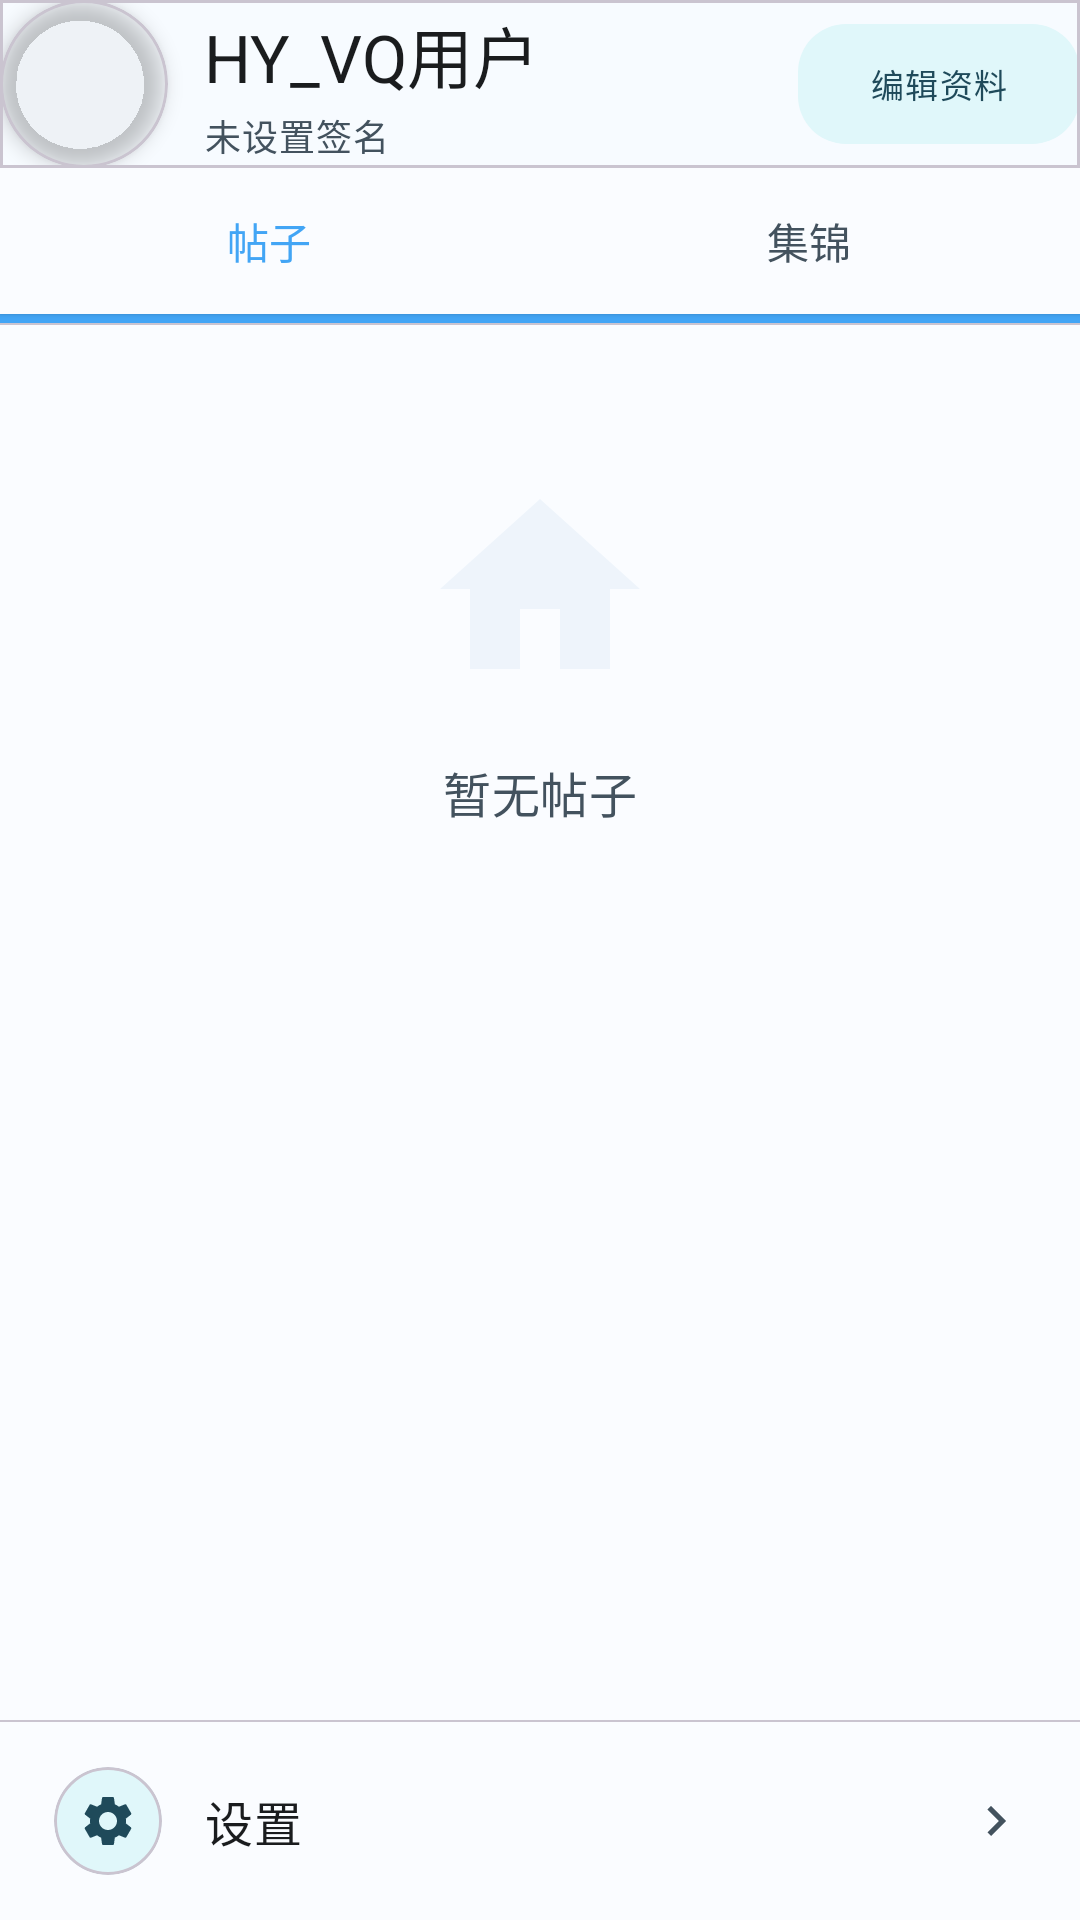

Locate icon controls on the screen. Image size 1080*1920, boxes as [x1=x1, y1=y1, x2=x2, y2=y2].
进入: [x1=987, y1=1806, x2=1006, y2=1836]
